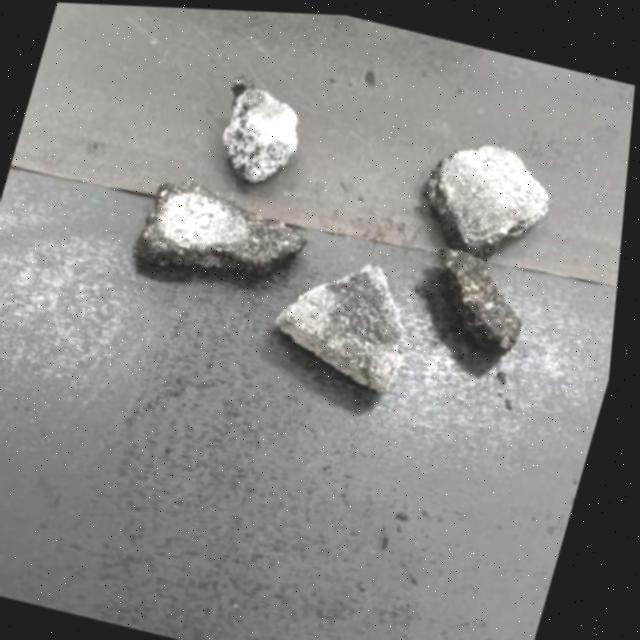Road Debris: (420, 236, 546, 357), (421, 163, 553, 254), (218, 201, 318, 294), (329, 257, 421, 354), (133, 176, 190, 272), (235, 65, 310, 128)
